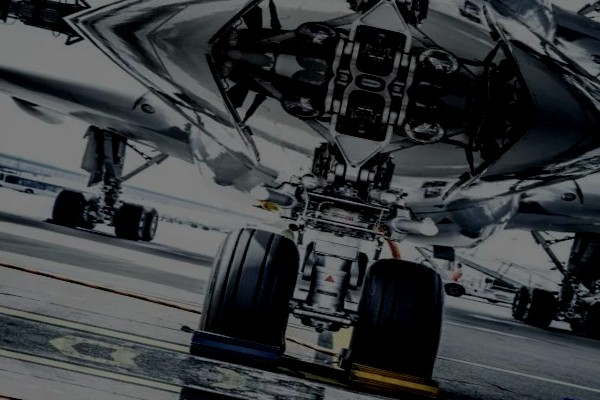chock: (187, 326, 281, 371), (344, 359, 445, 400), (42, 216, 78, 231), (586, 331, 600, 344)
wheel: (193, 221, 308, 370), (345, 253, 459, 391), (512, 284, 560, 328), (50, 187, 97, 231), (115, 200, 162, 244), (568, 295, 600, 341), (75, 194, 106, 231), (568, 297, 596, 334), (137, 206, 163, 243), (510, 285, 534, 321), (350, 250, 371, 290), (300, 239, 321, 278), (444, 281, 467, 298)
